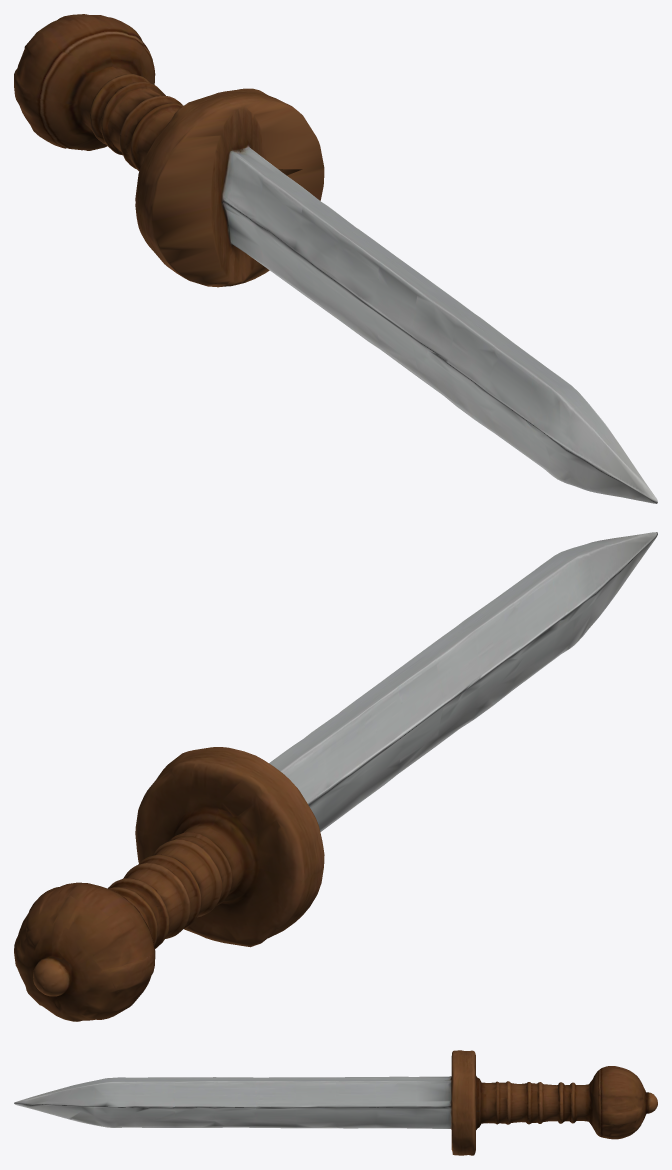
Rendered from gladius.glb.
3 views of the same model, one above another, from view 1: azimuth 30°, elevation 25°; view 2: azimuth 150°, elevation 25°; view 3: azimuth 270°, elevation 25° (orthographic). The views are drawn at different scales.
Parts seen in each view (by area): view 1: tripo_node_79400683-9f05-4cd0-a05a-620a8f7e5f70; view 2: tripo_node_79400683-9f05-4cd0-a05a-620a8f7e5f70; view 3: tripo_node_79400683-9f05-4cd0-a05a-620a8f7e5f70.
Part boxes in pixels (left/top/right/bottom): tripo_node_79400683-9f05-4cd0-a05a-620a8f7e5f70: left=14, top=14, right=657, bottom=503; tripo_node_79400683-9f05-4cd0-a05a-620a8f7e5f70: left=14, top=532, right=657, bottom=1021; tripo_node_79400683-9f05-4cd0-a05a-620a8f7e5f70: left=14, top=1050, right=657, bottom=1155.
Size of the model in its own units: 0.1064 by 0.106 by 0.6498.
Materials: 1 (1 with a texture image).
